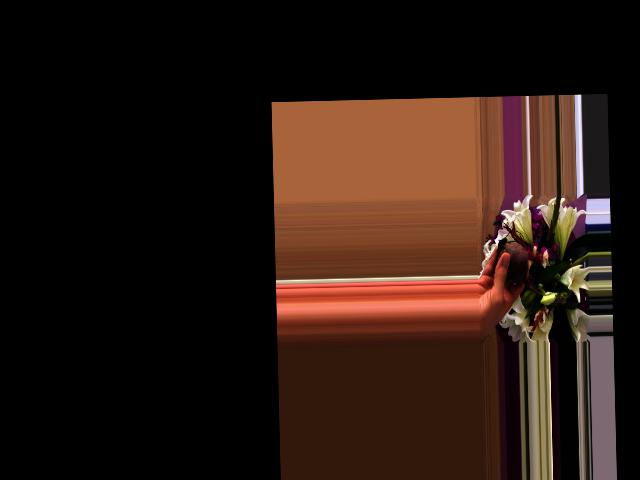beet: (496, 229, 551, 296)
